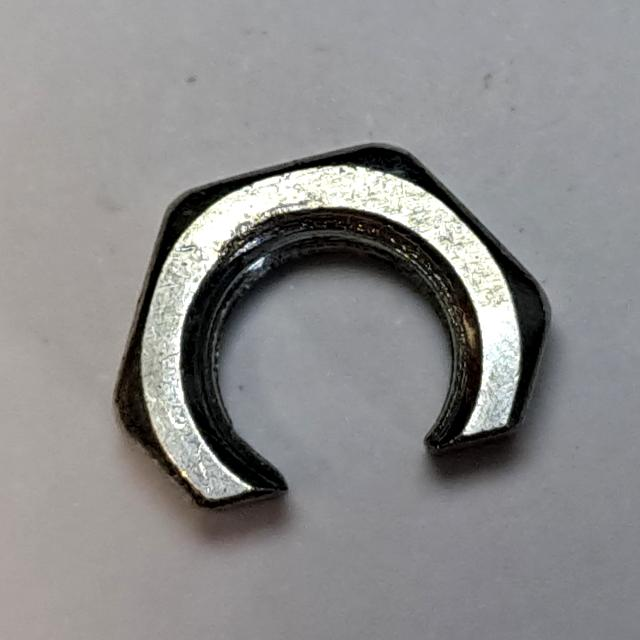Fracture: (100, 121, 584, 528)
